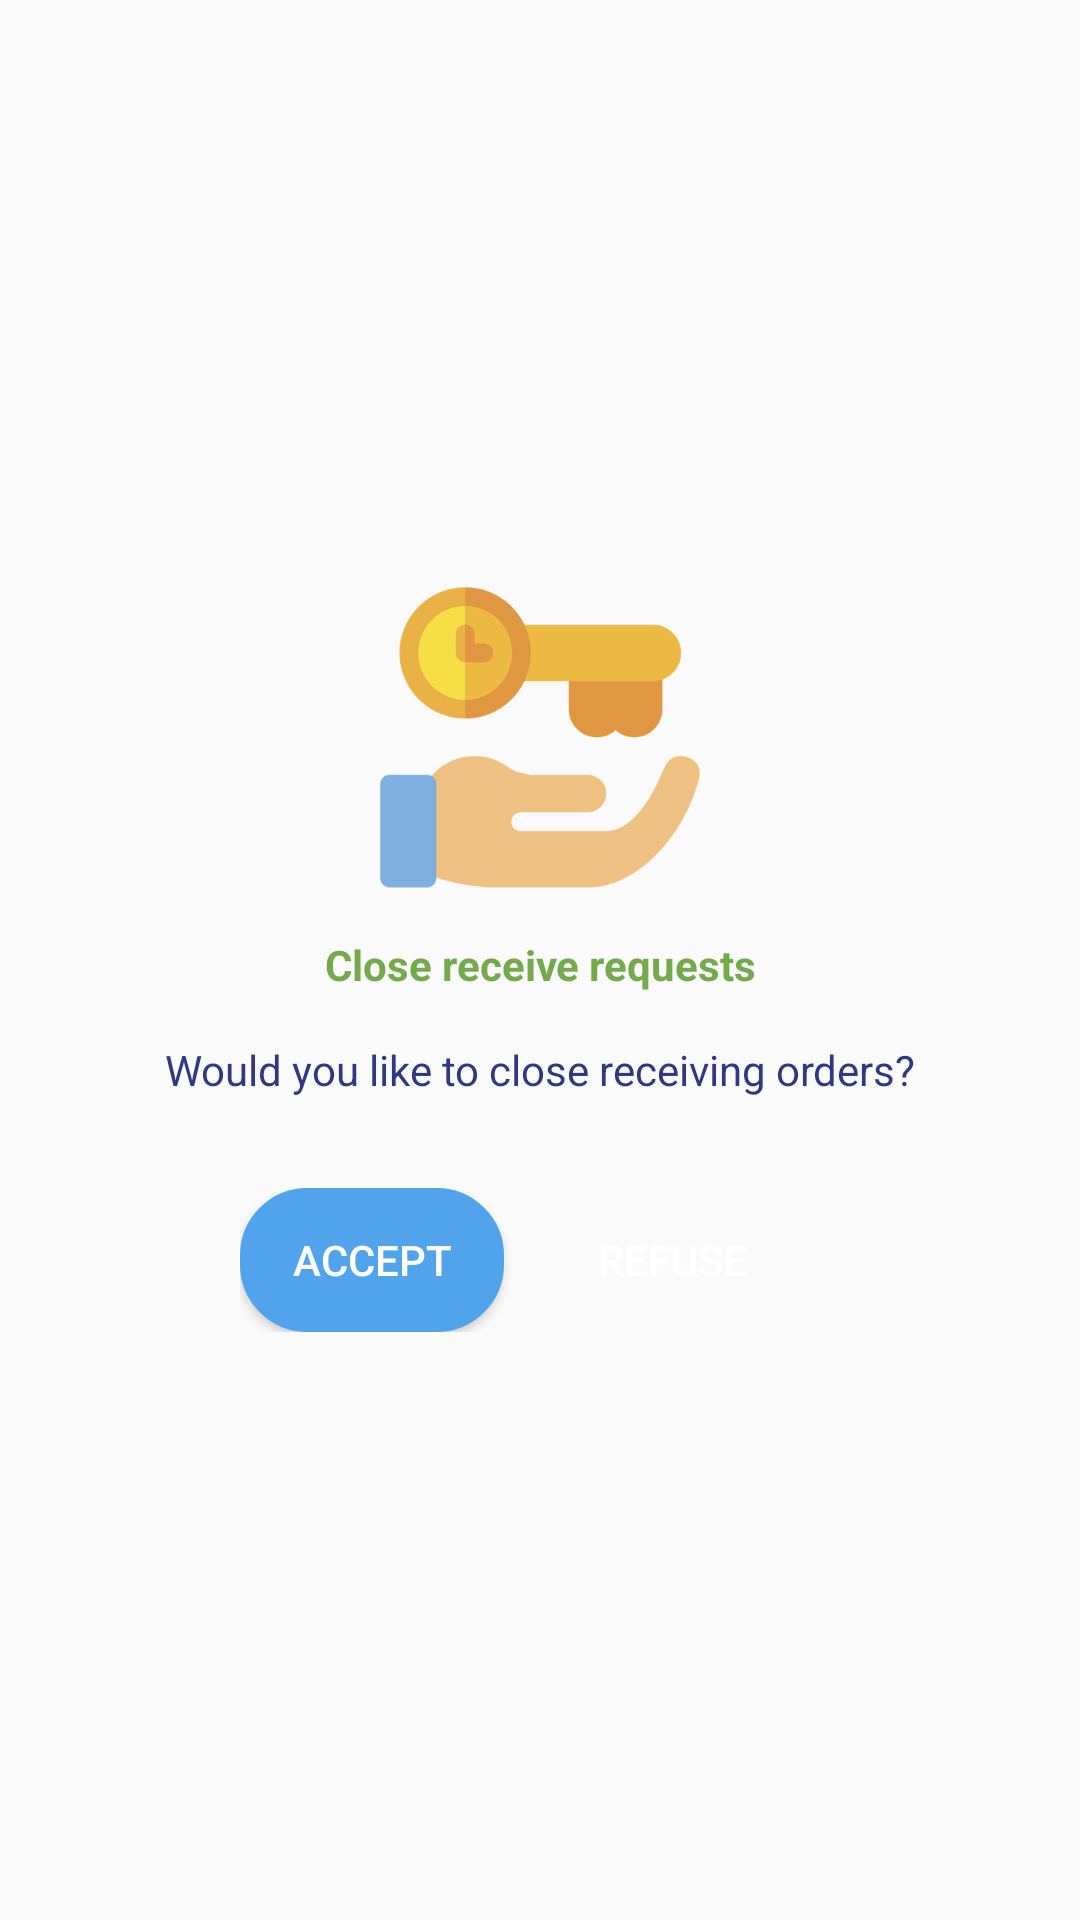

Point at icon controls on the screen. Image size 1080px x 1920px, points as point (x, y).
key: point (540, 737)
